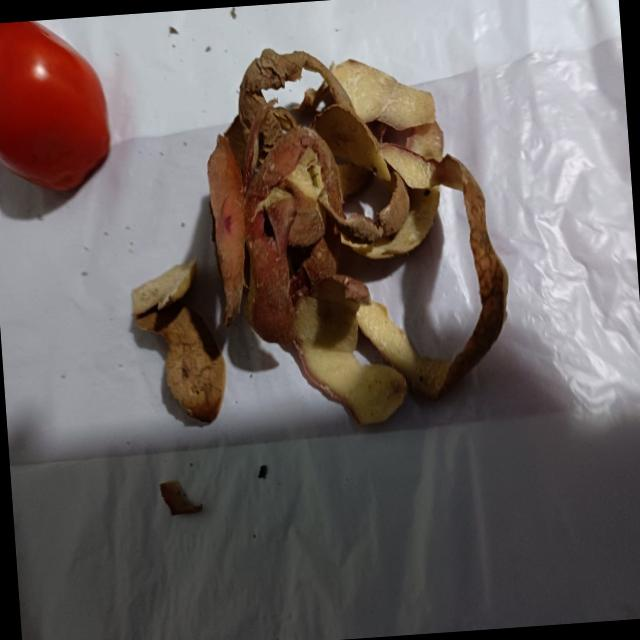organic: (112, 30, 516, 441)
